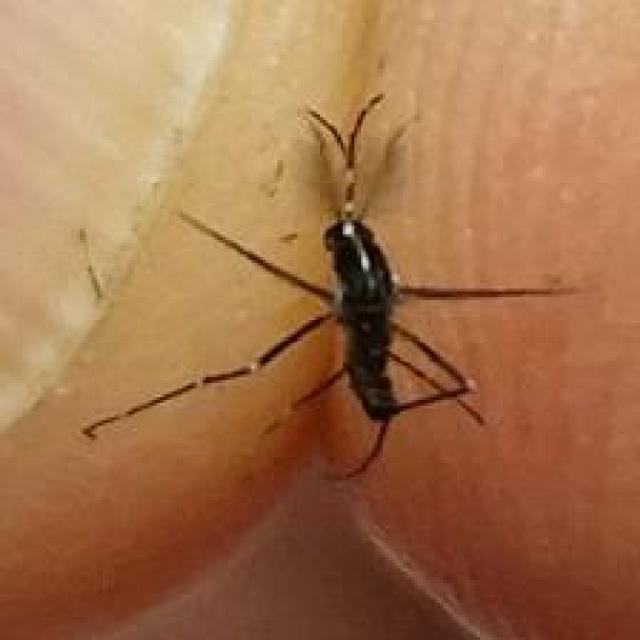Aedes albopictus: (81, 90, 578, 481)
